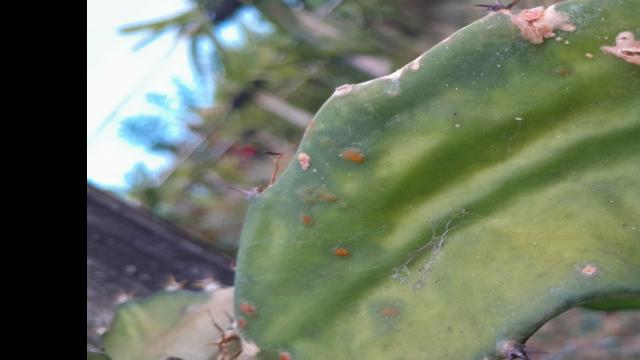stemcanker: (294, 184, 340, 209), (338, 145, 374, 169), (237, 299, 265, 322), (378, 302, 401, 323), (329, 243, 355, 260), (297, 210, 318, 229)
